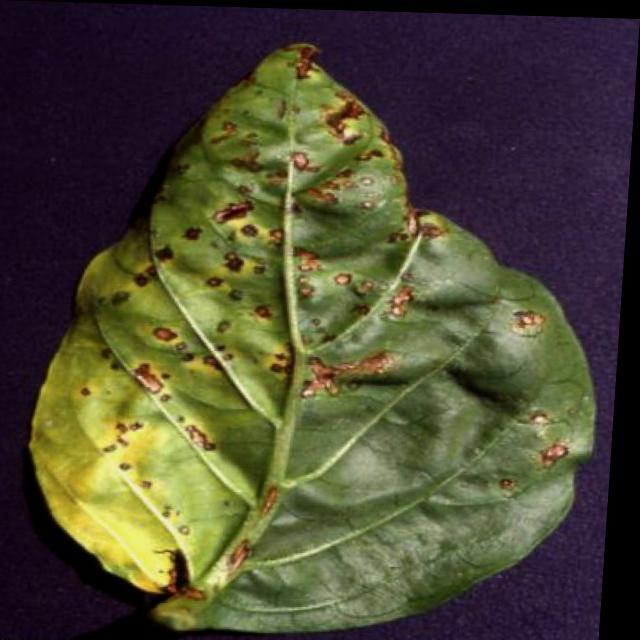Tomato Septoria spot leaf: (31, 11, 616, 637)
